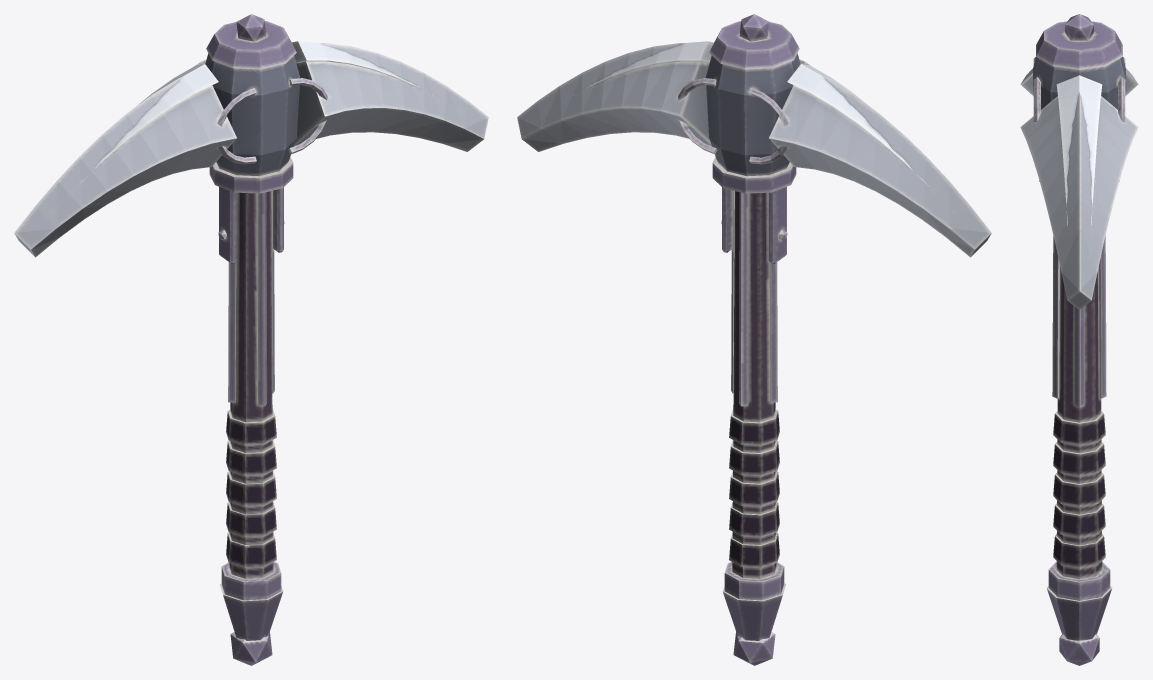
Rendered from RuneTinPickaxe.glb.
The picture shows the model from 3 angles, left to right: view 1: azimuth 30°, elevation 25°; view 2: azimuth 150°, elevation 25°; view 3: azimuth 270°, elevation 25°; orthographic projection.
Parts seen in each view (by area): view 1: Body__Tex; view 2: Body__Tex; view 3: Body__Tex.
Part boxes in pixels (<box>): Body__Tex: <box>14,14,488,665</box>; Body__Tex: <box>517,14,991,665</box>; Body__Tex: <box>1020,14,1138,665</box>.
Bounding box in the file's own units: 3.25 × 4.26 × 0.7.
1 material, 1 textured.
